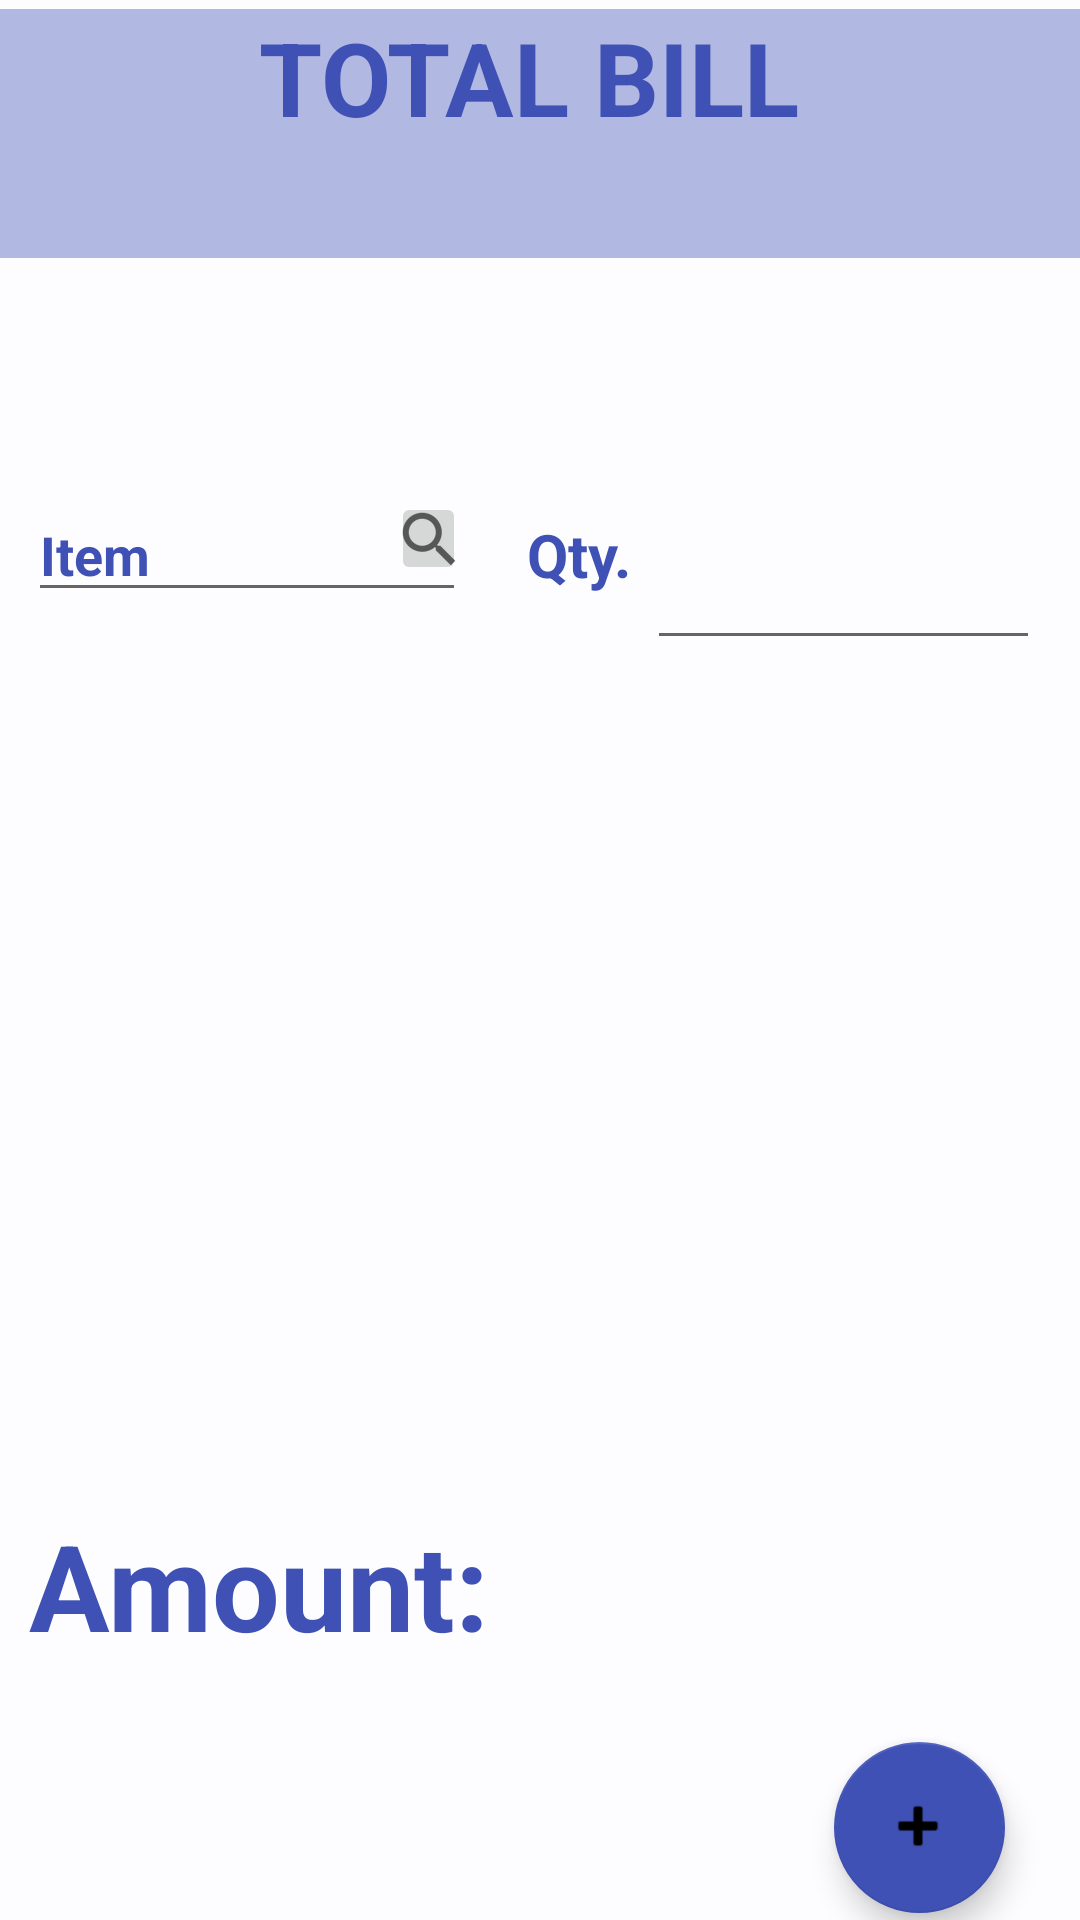

Named icons in this screenshot (1080×1920) and their centers, [x,y]:
add: [919,1827]
